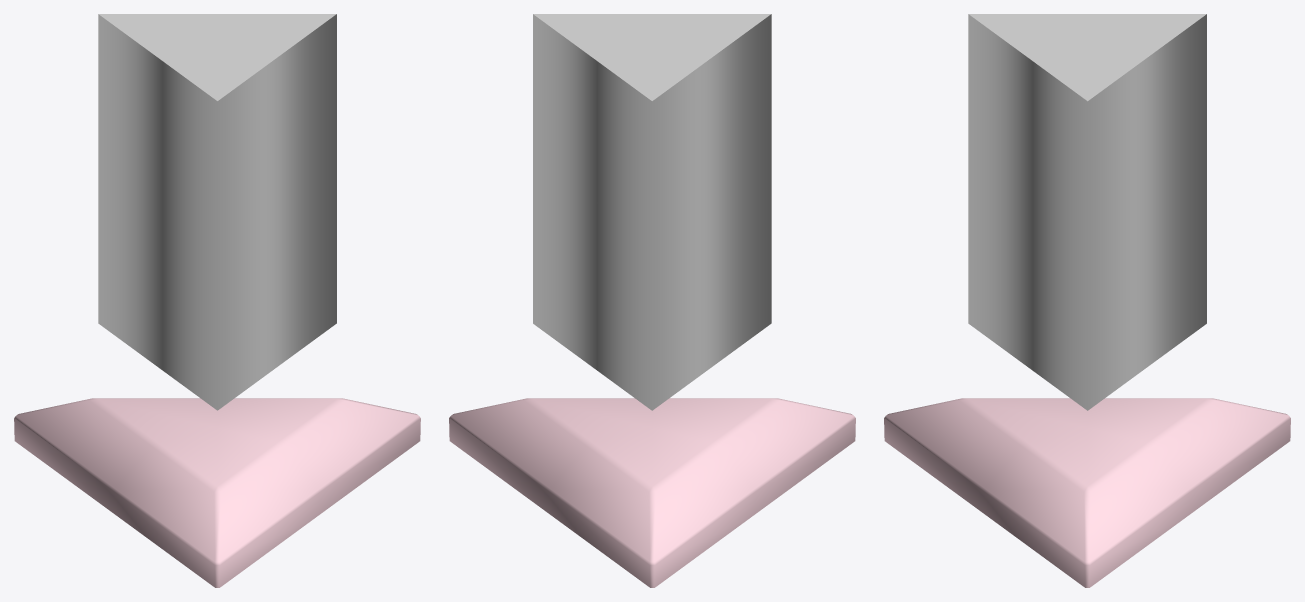
The model's file is advertising_stand_big.coll.fbx.
3 views of the same model, side by side, from view 1: azimuth 30°, elevation 25°; view 2: azimuth 150°, elevation 25°; view 3: azimuth 270°, elevation 25° (orthographic).
Parts seen in each view (by area): view 1: 0_big_stand_col, 1_big_stand_col; view 2: 0_big_stand_col, 1_big_stand_col; view 3: 0_big_stand_col, 1_big_stand_col.
Part boxes in pixels (<box>): 0_big_stand_col: <box>98,14,336,410</box>; 1_big_stand_col: <box>14,398,420,587</box>; 0_big_stand_col: <box>533,14,771,410</box>; 1_big_stand_col: <box>449,398,855,587</box>; 0_big_stand_col: <box>968,14,1206,410</box>; 1_big_stand_col: <box>884,398,1290,587</box>.
Bounding box in the file's own units: 3.03 × 4.23 × 3.49.
